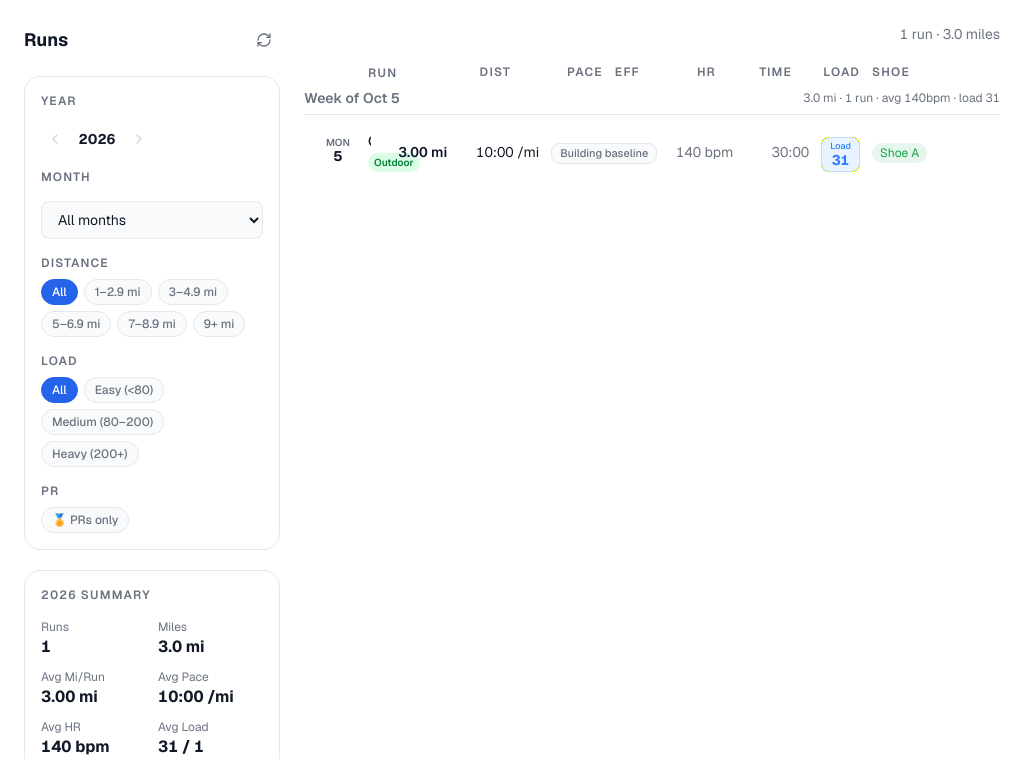
Test: persisted shoe assignment publication › Runs preserves explicit removal against an auto-rule after refresh
This screenshot has width=1024, height=759.
Click the button "Shoe A" at [900, 152], box 872,142 -> 927,162
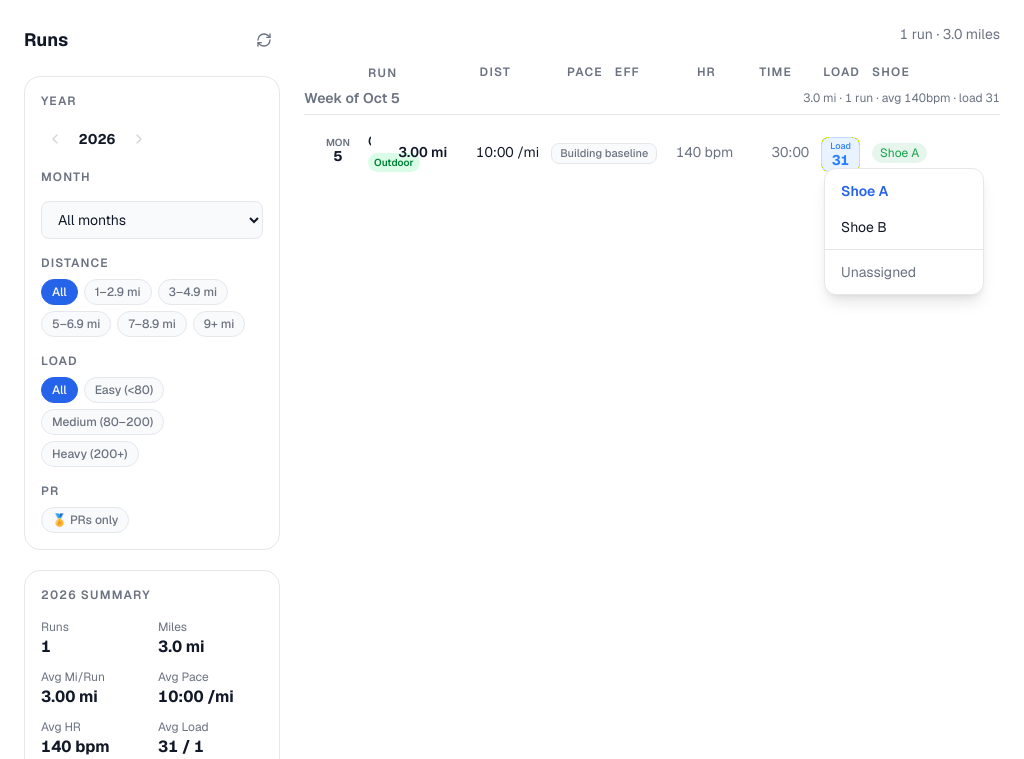
Now the button "Unassigned" is shown
Click the button "Unassigned" at [904, 272], box 825,254 -> 983,290
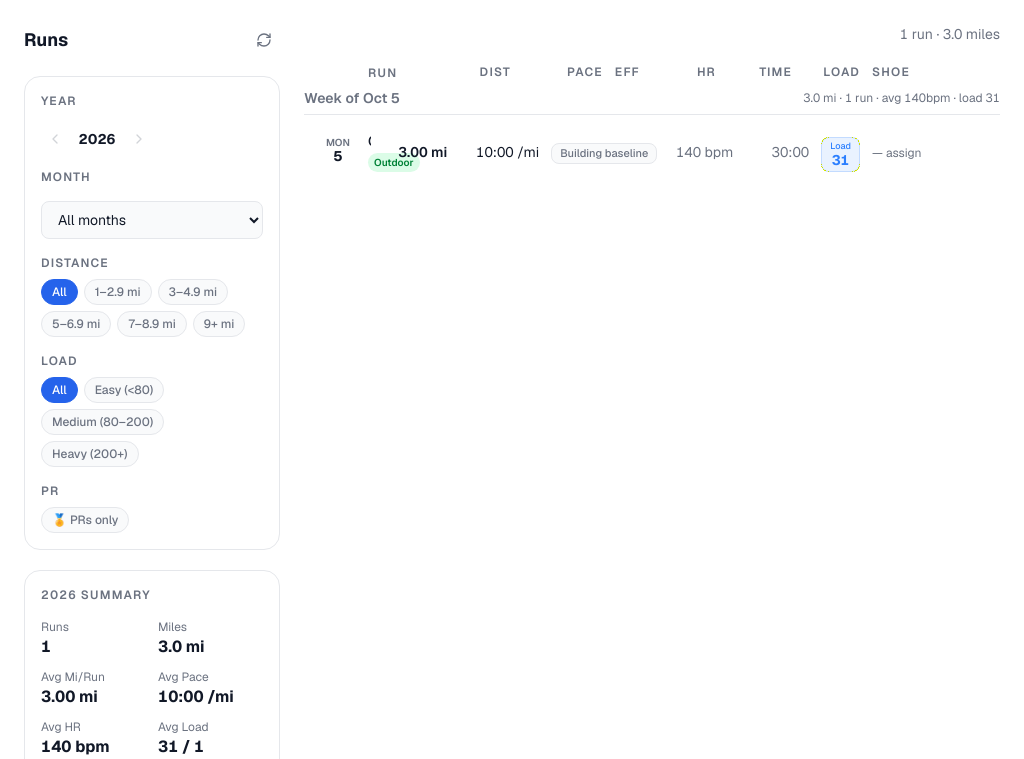
Now the button "— assign" is shown, box 872,144 -> 922,160
